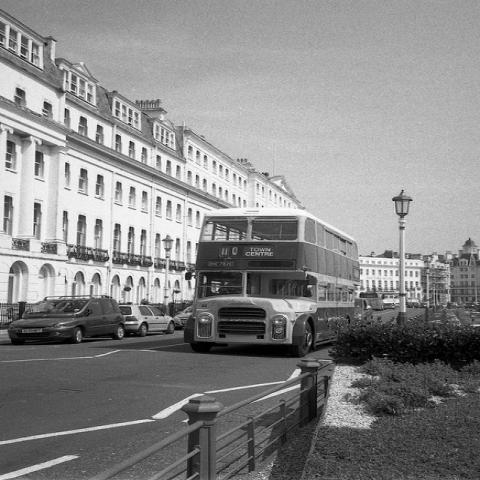bus: (184, 210, 368, 356)
car: (6, 293, 128, 348), (120, 305, 176, 336), (172, 305, 193, 330)
